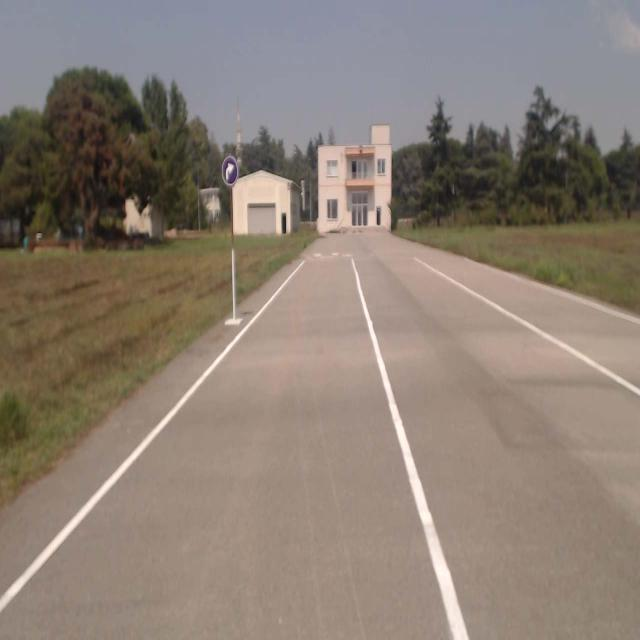sag: (222, 156, 238, 185)
